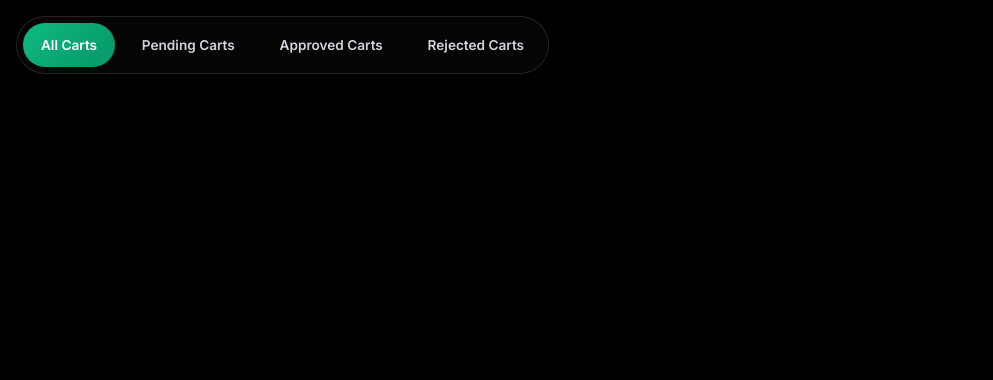
Scenario: ApproveCarts Component (React Testing Library) › filters by status when clicking tabs
Click the button "pending Carts" at (188, 45), box [123,23,253,67]
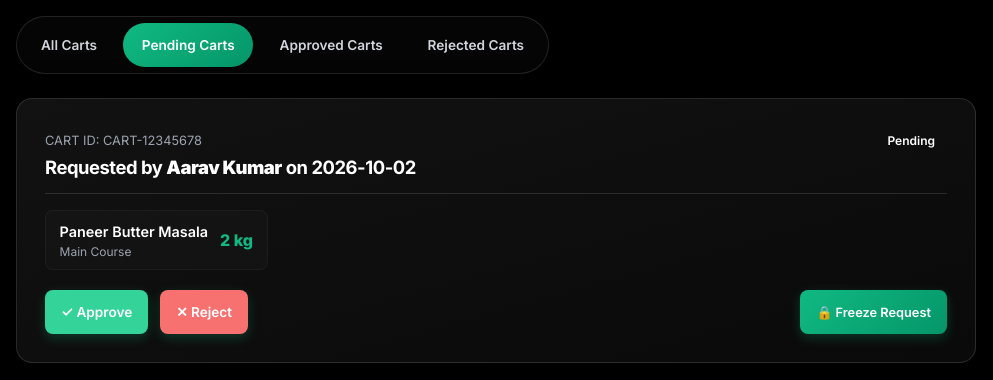
Now the text "Aarav Kumar" is shown, box [166,156,282,178]
